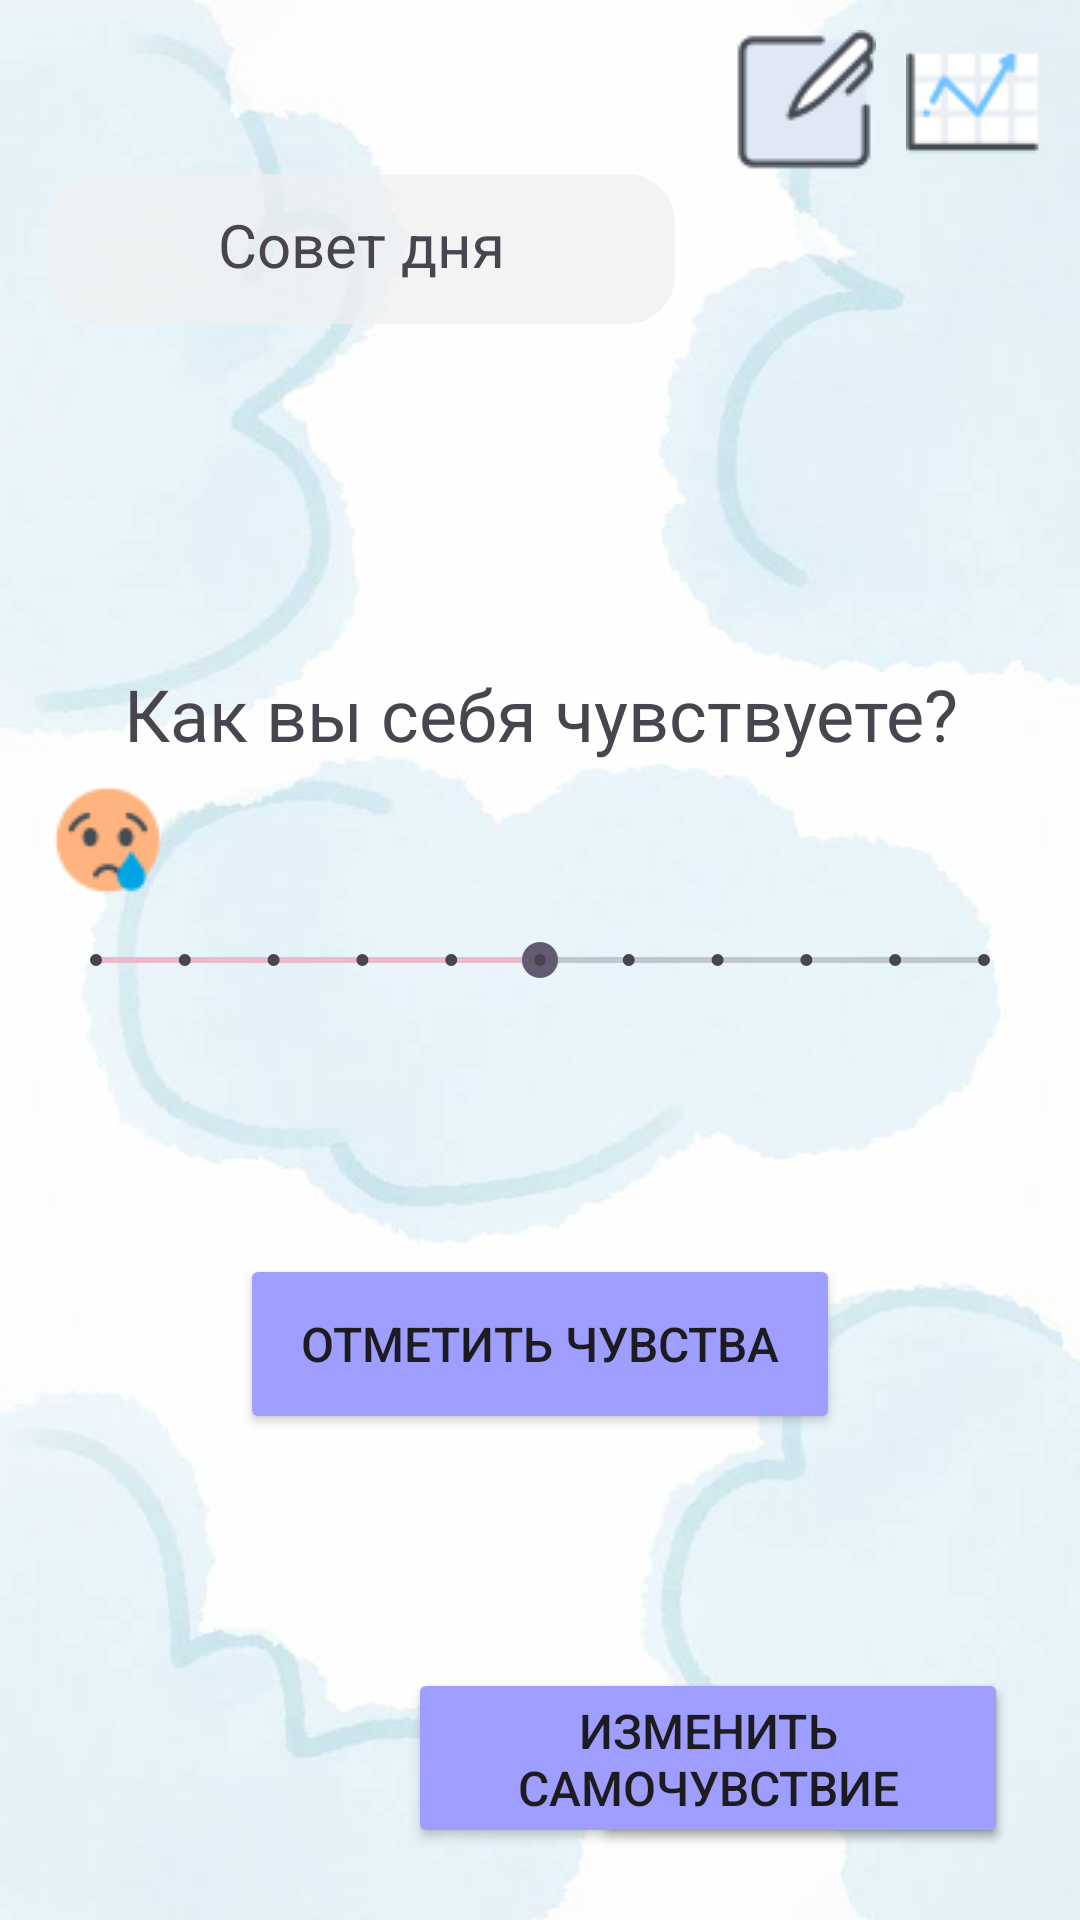

Named icons in this screenshot (1080px×1920px) and their bounding boxes, box(x1, y1, x2, y2):
crying: box(56, 788, 168, 900)
graph: box(906, 53, 1039, 151)
notes: box(737, 30, 876, 174)
